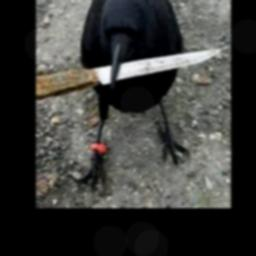Crow: (76, 0, 190, 190)
